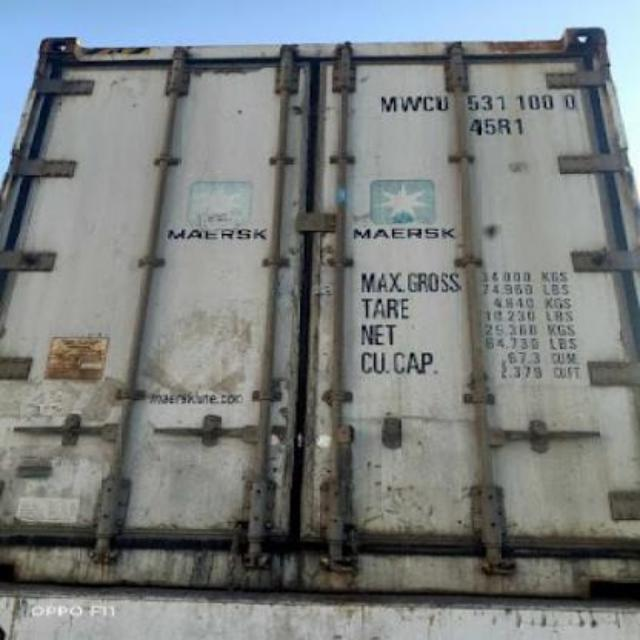0: (564, 89, 582, 113), (526, 87, 542, 113), (542, 89, 558, 115)
1: (496, 90, 512, 114), (512, 92, 526, 112)
3: (482, 93, 496, 111)
5: (462, 91, 480, 112)
C: (422, 86, 436, 118)
M: (376, 93, 396, 113)
U: (436, 89, 454, 115)
W: (398, 88, 422, 115)
